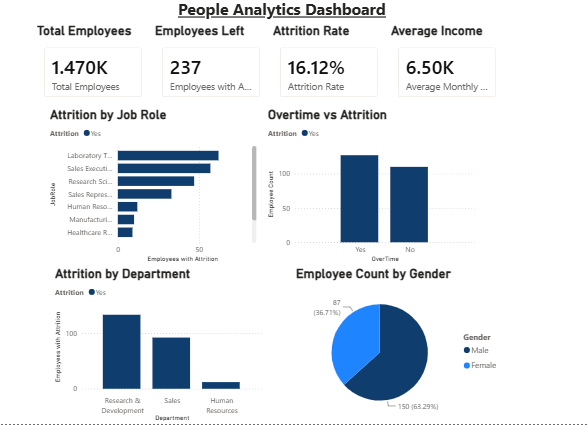

The dashboard page shown, as its layout file describes it:
{"tool":"powerbi","page":{"name":"Page 1","canvas":[1280,720],"ordinal":0},"visuals":[{"type":"group","id":"g1","title":"Group 1","box":[233.5,47,792.9,141.1],"z":0},{"type":"cardVisual","title":"Total Employees","fields":{"Data":["hr_cleaned.Total Employees"]},"box":[233.5,47,198.2,141.1],"z":0,"group":"g1"},{"type":"cardVisual","title":"Employees Left","fields":{"Data":["hr_cleaned.Employees with Attrition"]},"box":[431.7,47,198.2,141.1],"z":1000,"group":"g1"},{"type":"group","id":"g2","title":"Group 2","box":[255.3,188.1,771,532.5],"z":1000},{"type":"textbox","box":[470.3,0,394.8,47],"z":2000},{"type":"cardVisual","title":"Attrition Rate","fields":{"Data":["hr_cleaned.Attrition Rate"]},"box":[629.9,47,198.2,141.1],"z":2000,"group":"g1"},{"type":"cardVisual","title":"Average Income","fields":{"Data":["hr_cleaned.Average Monthly Income"]},"box":[828.1,47,198.2,141.1],"z":3000,"group":"g1"},{"type":"clusteredColumnChart","title":"Attrition by Department","fields":{"Category":["hr_cleaned.Department"],"Y":["hr_cleaned.Employees with Attrition"],"Series":["hr_cleaned.Attrition"]},"box":[263.9,454.3,357.2,266.2],"z":4000,"group":"g2"},{"type":"clusteredBarChart","title":"Attrition by Job Role","fields":{"Category":["hr_cleaned.JobRole"],"Y":["hr_cleaned.Employees with Attrition"],"Series":["hr_cleaned.Attrition"]},"box":[255.3,188.1,357.2,266.2],"z":5000,"group":"g2"},{"type":"columnChart","title":"Overtime vs Attrition","fields":{"Category":["hr_cleaned.OverTime"],"Y":["hr_cleaned.Employee Count"],"Series":["hr_cleaned.Attrition"]},"box":[621.1,188.1,357.2,266.2],"z":6000,"group":"g2"},{"type":"pieChart","fields":{"Category":["hr_cleaned.Gender"],"Y":["hr_cleaned.Employee Count"]},"box":[669.1,454.3,357.2,266.2],"z":7000,"group":"g2"}]}

Visuals, with their boxes on the page's 1280x720 design canvas (x1, y1, x2, y2). These are canvas units, not pixel positions in the 587x425 screenshot, which may show the page scaled, cropped or inside an application window:
"Group 1" group: <box>234,47,1026,188</box>
"Total Employees" cardVisual: <box>234,47,432,188</box>
"Employees Left" cardVisual: <box>432,47,630,188</box>
"Group 2" group: <box>255,188,1026,721</box>
textbox: <box>470,0,865,47</box>
"Attrition Rate" cardVisual: <box>630,47,828,188</box>
"Average Income" cardVisual: <box>828,47,1026,188</box>
"Attrition by Department" clusteredColumnChart: <box>264,454,621,720</box>
"Attrition by Job Role" clusteredBarChart: <box>255,188,612,454</box>
"Overtime vs Attrition" columnChart: <box>621,188,978,454</box>
pieChart - hr_cleaned.Gender x hr_cleaned.Employee Count: <box>669,454,1026,720</box>
